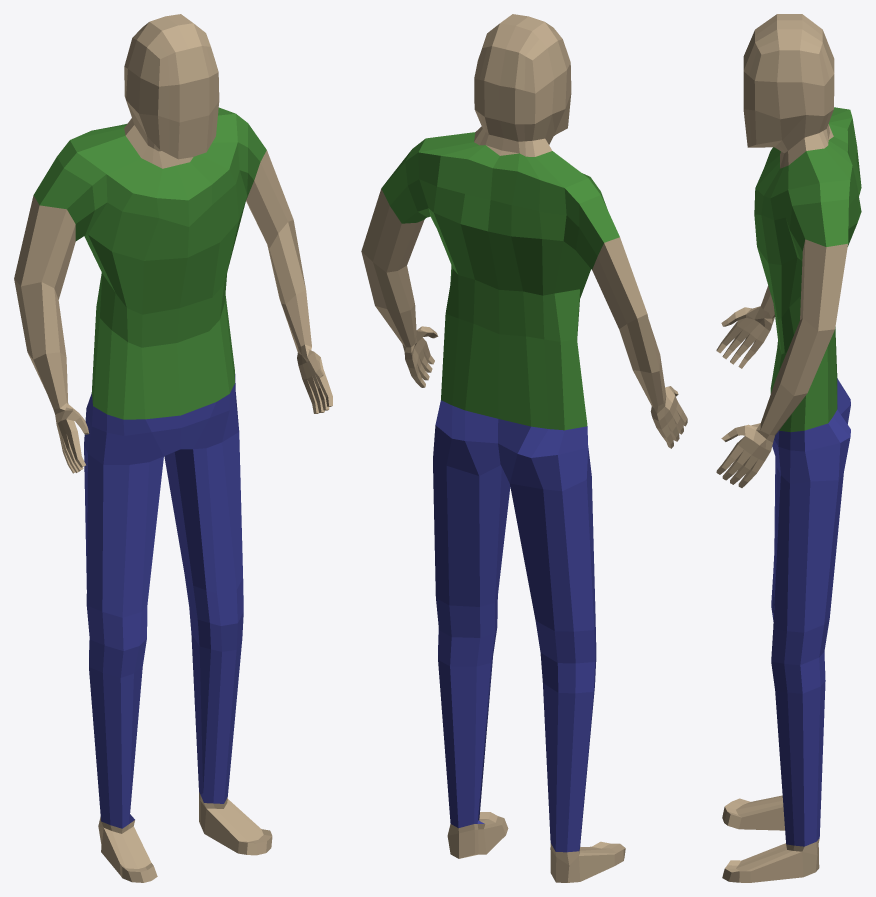
File: assistant.glb
The picture shows the model from 3 angles, left to right: view 1: azimuth 30°, elevation 25°; view 2: azimuth 150°, elevation 25°; view 3: azimuth 270°, elevation 25°; orthographic projection. The views are drawn at different scales.
Visible parts, largest first — view 1: Cube_Cube.003; view 2: Cube_Cube.003; view 3: Cube_Cube.003.
Boxes of the visible parts, box(x1,y1,x2,y2) form: Cube_Cube.003: box(14, 14, 332, 882); Cube_Cube.003: box(361, 14, 687, 882); Cube_Cube.003: box(716, 14, 861, 882).
Bounding box in the file's own units: 4.07 × 11.77 × 1.86.
